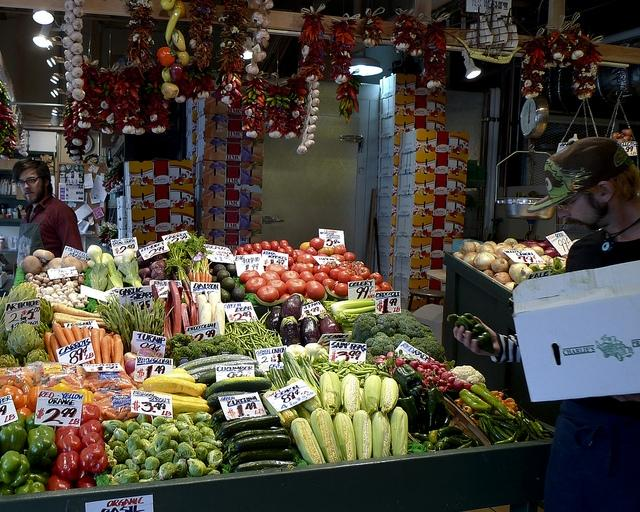bell pepper: (27, 434, 59, 470), (0, 450, 30, 487), (52, 450, 84, 480), (1, 425, 27, 457), (80, 444, 108, 473), (27, 424, 56, 446), (56, 433, 82, 457), (78, 419, 104, 442), (1, 386, 24, 408), (80, 432, 106, 451), (26, 386, 44, 413), (14, 480, 46, 494), (81, 403, 100, 426), (55, 426, 79, 444), (28, 470, 50, 488), (46, 474, 70, 490), (26, 412, 41, 432), (51, 382, 74, 392), (0, 482, 14, 496), (6, 380, 15, 386)
brussels sprouts: (145, 456, 160, 470)
carrot: (80, 324, 96, 364), (51, 320, 70, 347), (91, 328, 102, 364), (49, 332, 62, 362), (44, 332, 56, 362), (113, 340, 124, 366), (100, 338, 110, 364), (98, 328, 105, 364), (63, 328, 76, 344), (196, 261, 200, 282), (188, 272, 194, 281), (206, 271, 210, 282)
corn: (310, 408, 344, 463), (290, 417, 326, 465), (262, 390, 300, 428), (332, 408, 357, 460), (286, 378, 322, 412), (321, 370, 342, 418), (389, 406, 408, 456), (353, 410, 372, 459), (372, 412, 392, 458), (340, 374, 360, 419), (364, 374, 382, 414), (380, 378, 399, 415)
cucumber: (215, 414, 281, 444), (187, 360, 260, 380), (229, 449, 294, 469), (223, 428, 288, 448), (208, 376, 272, 394), (207, 391, 262, 408), (237, 460, 295, 472), (208, 408, 226, 428), (222, 450, 248, 460)
eggplant: (300, 313, 320, 347), (318, 312, 344, 337), (281, 293, 304, 321), (280, 316, 300, 347), (266, 306, 282, 336)
garlic: (246, 48, 260, 75), (256, 30, 270, 48), (250, 12, 264, 26), (72, 88, 85, 101), (70, 32, 83, 44), (256, 50, 267, 62), (65, 72, 76, 84), (64, 23, 74, 36), (73, 6, 83, 18), (72, 78, 84, 88), (72, 54, 82, 66), (296, 145, 308, 154), (64, 50, 74, 60), (64, 61, 74, 71), (310, 106, 320, 115), (312, 81, 320, 90), (312, 98, 320, 106), (308, 124, 316, 132)
onion: (472, 252, 496, 271), (509, 263, 528, 281), (514, 267, 534, 283), (491, 258, 509, 273), (495, 247, 512, 262), (459, 240, 477, 254), (492, 272, 512, 284), (478, 244, 496, 254), (532, 246, 544, 257), (503, 238, 518, 246), (504, 282, 516, 290), (528, 264, 540, 272), (452, 252, 464, 260), (498, 242, 513, 248), (484, 241, 496, 246), (522, 246, 533, 250)
radish: (369, 352, 384, 365), (391, 358, 406, 366), (435, 378, 446, 386), (463, 383, 473, 391), (426, 376, 436, 384), (427, 362, 432, 368), (440, 368, 447, 372), (427, 368, 432, 372)
tomato: (266, 278, 287, 298), (306, 280, 326, 300), (244, 277, 266, 295), (256, 286, 280, 302), (156, 46, 175, 66), (285, 278, 306, 296), (290, 262, 314, 275), (238, 270, 260, 284), (260, 272, 281, 286), (280, 270, 300, 284), (296, 253, 316, 265), (299, 270, 315, 284), (329, 264, 342, 280), (315, 272, 329, 285), (357, 266, 370, 280), (369, 272, 382, 286), (334, 283, 348, 296), (310, 238, 324, 250), (333, 245, 347, 256), (338, 270, 350, 282), (317, 264, 330, 275), (304, 246, 318, 256), (344, 252, 356, 262), (252, 242, 262, 254), (379, 282, 392, 291), (260, 240, 271, 250), (350, 276, 364, 282), (278, 294, 292, 300), (300, 242, 310, 250), (270, 241, 278, 251), (280, 240, 288, 250), (342, 260, 352, 268), (292, 250, 298, 262), (294, 250, 306, 256), (237, 246, 244, 254), (375, 285, 382, 291), (286, 266, 290, 272), (277, 246, 281, 250)
